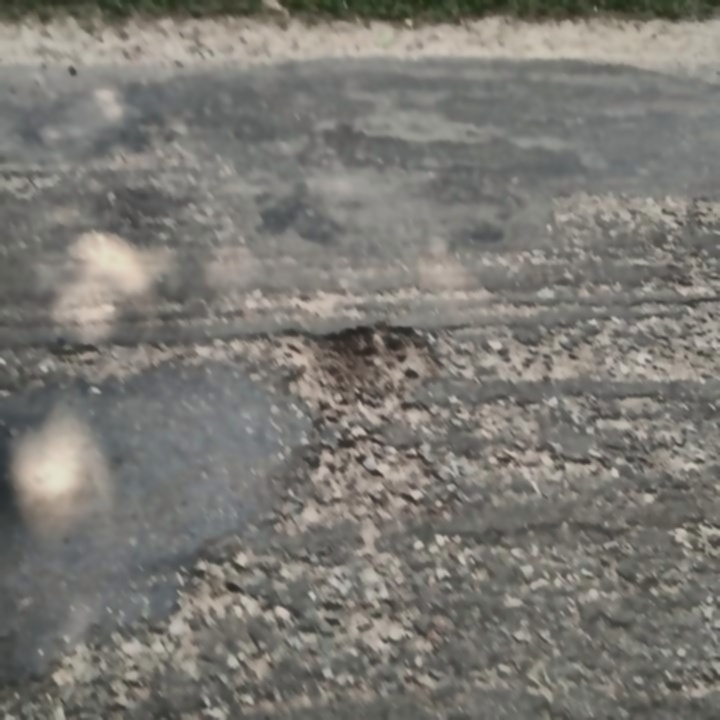pothole: (274, 317, 440, 425)
